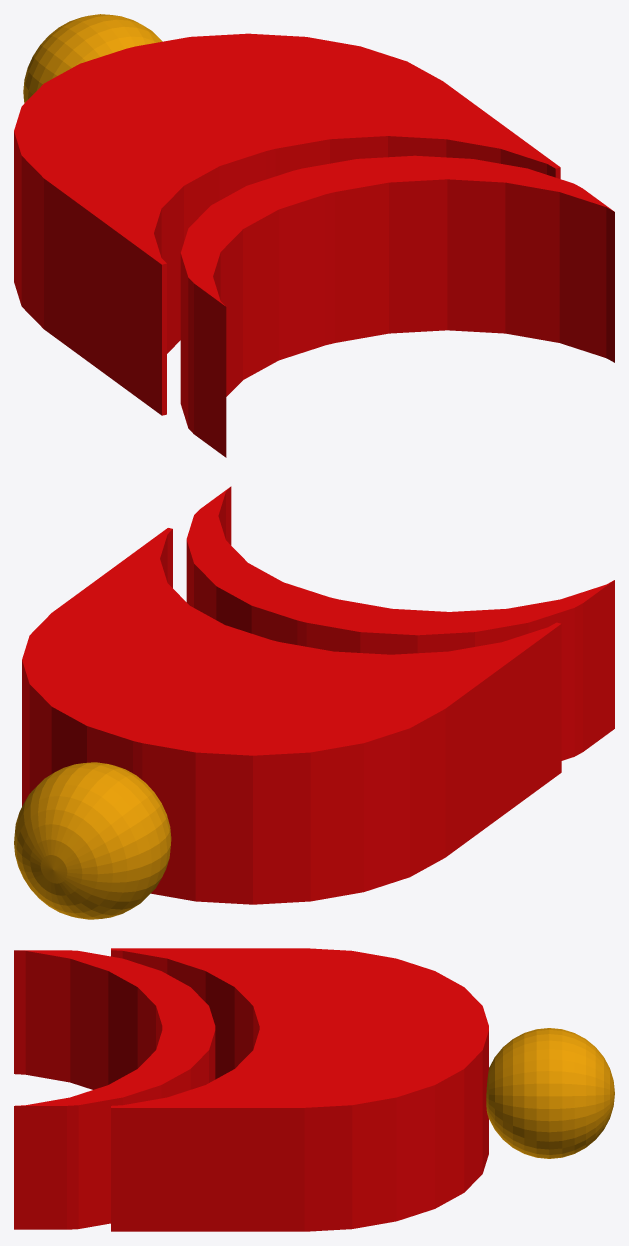
The model's file is xnor.fbx.
3 views of the same model, one above another, from view 1: azimuth 30°, elevation 25°; view 2: azimuth 150°, elevation 25°; view 3: azimuth 270°, elevation 25° (orthographic). The views are drawn at different scales.
Visible parts, largest first — view 1: Cube.007; view 2: Cube.007; view 3: Cube.007.
Part boxes in pixels (x1,y1,x2,y2): Cube.007: (14, 14, 614, 457); Cube.007: (14, 486, 614, 919); Cube.007: (14, 948, 614, 1231).
Bounding box in the file's own units: 200 × 72.36 × 318.
